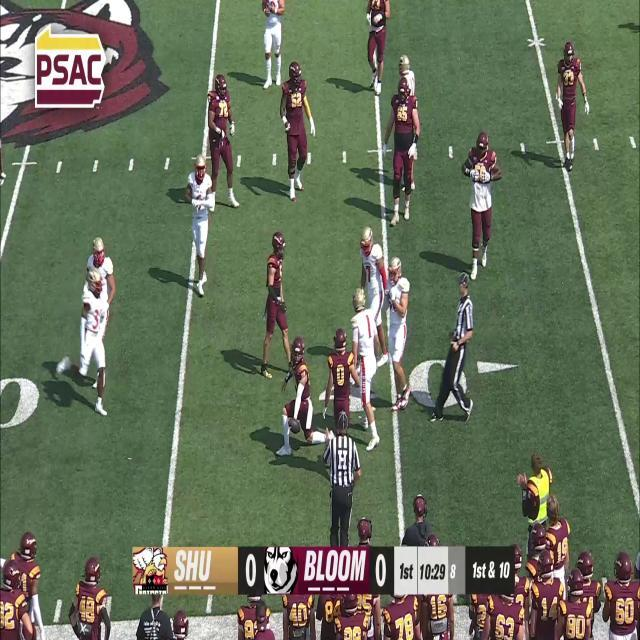football: (287, 417, 301, 435)
